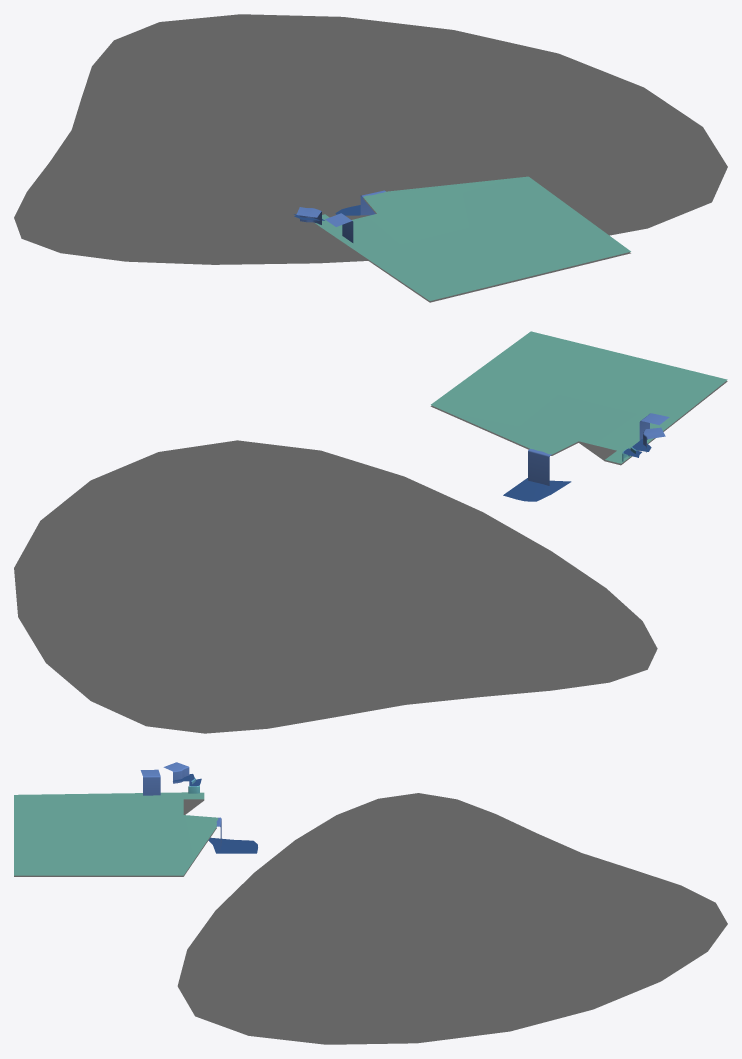
File: lake_prefab.fbx
The picture shows the model from 3 angles, top to bottom: view 1: azimuth 30°, elevation 25°; view 2: azimuth 150°, elevation 25°; view 3: azimuth 270°, elevation 25°; orthographic projection. The views are drawn at different scales.
Parts seen in each view (by area): view 1: black_floor, lake, Waterfall_1; view 2: black_floor, lake, Waterfall_place, Waterfall_1; view 3: black_floor, lake, Waterfall_place, Waterfall_1.
Part boxes in pixels (left/top/right/bottom): black_floor: left=14, top=14, right=727, bottom=302; lake: left=315, top=176, right=630, bottom=300; Waterfall_1: left=325, top=190, right=385, bottom=242; black_floor: left=14, top=381, right=727, bottom=733; lake: left=431, top=331, right=727, bottom=463; Waterfall_place: left=503, top=439, right=651, bottom=501; Waterfall_1: left=528, top=413, right=669, bottom=485; black_floor: left=14, top=793, right=727, bottom=1044; lake: left=14, top=792, right=218, bottom=875; Waterfall_place: left=173, top=774, right=257, bottom=853; Waterfall_1: left=140, top=769, right=221, bottom=849.
Size of the model in its own units: 388544 by 59434 by 465534.
